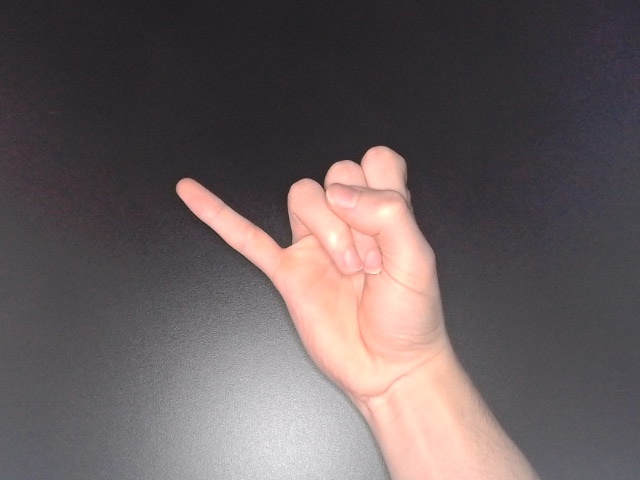j: (170, 142, 454, 411)
